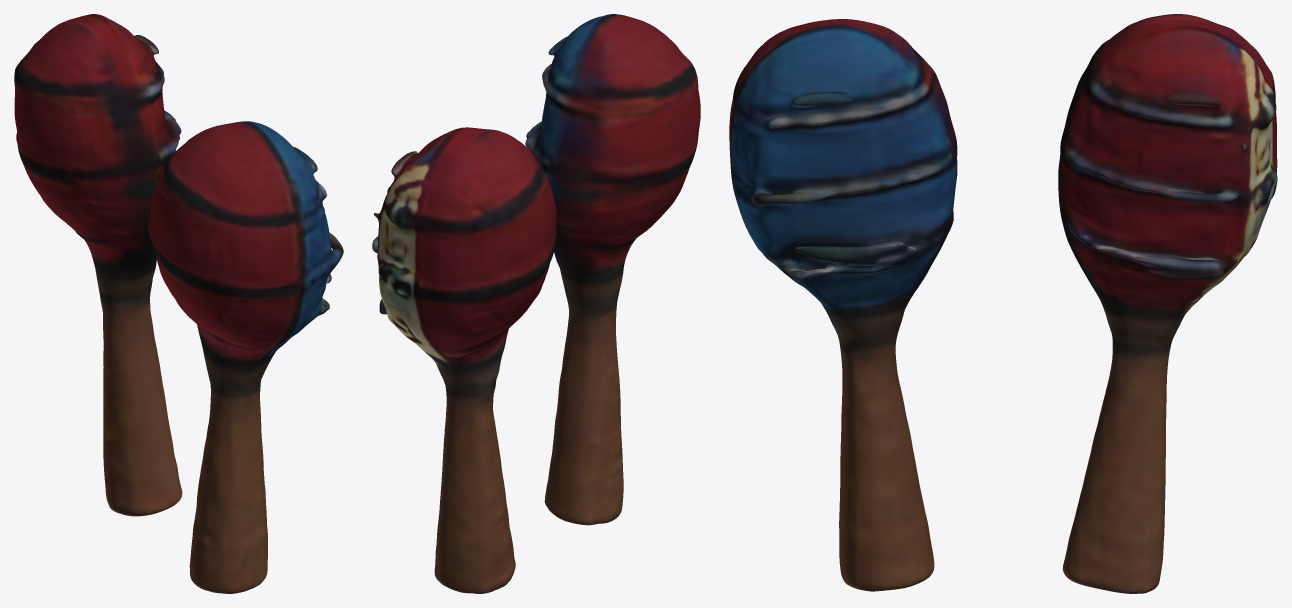
The model's file is maracas.glb.
3 views of the same model, side by side, from view 1: azimuth 30°, elevation 25°; view 2: azimuth 150°, elevation 25°; view 3: azimuth 270°, elevation 25° (orthographic). The views are drawn at different scales.
Visible parts, largest first — view 1: high_poly; view 2: high_poly; view 3: high_poly.
Boxes of the visible parts, x1,y1,x2,y2 form: high_poly: (14, 14, 343, 593); high_poly: (372, 14, 700, 593); high_poly: (729, 14, 1277, 593).
Bounding box in the file's own units: 0.3359 × 1 × 0.895.
1 material, 1 textured.
